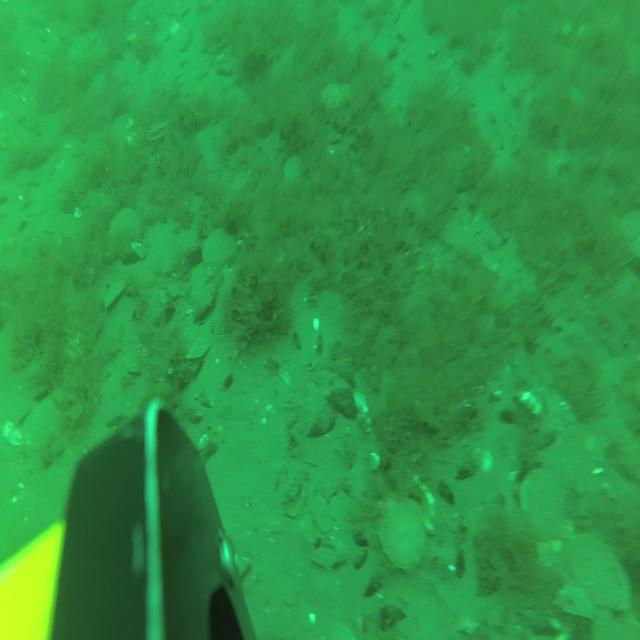scallop: (554, 529, 634, 620), (374, 489, 430, 574), (520, 464, 568, 546), (200, 218, 240, 280), (106, 205, 144, 258), (318, 75, 355, 116), (108, 109, 141, 152), (144, 110, 175, 148), (283, 151, 310, 187)
